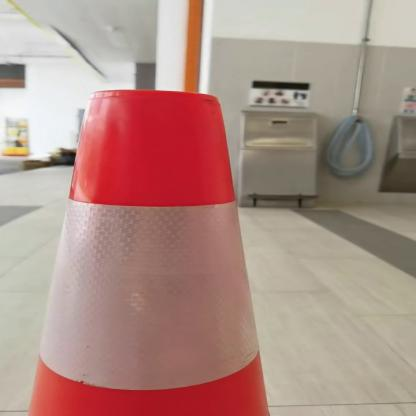cone: (36, 86, 314, 416)
